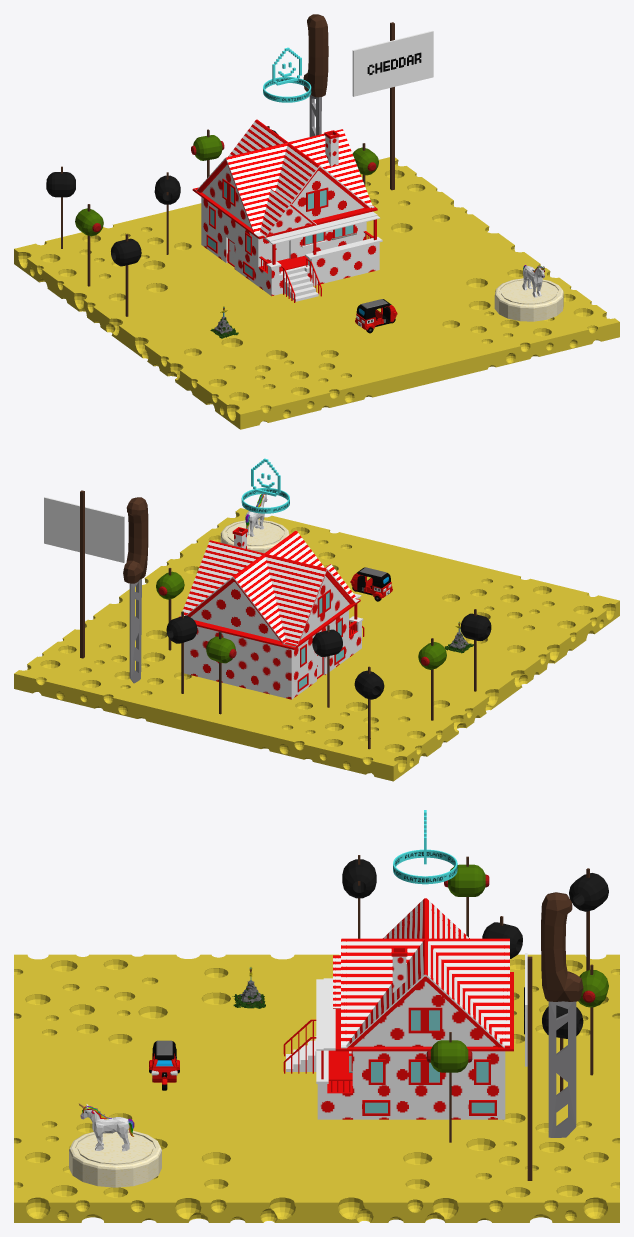
3 views of the same model, one above another, from view 1: azimuth 30°, elevation 25°; view 2: azimuth 150°, elevation 25°; view 3: azimuth 270°, elevation 25° (orthographic). The views are drawn at different scales.
Parts seen in each view (by area): view 1: Cube.022, Cube.196, Cube.023, Cylinder.016, Cube.024, TYPE_PREMIUM, VEHICLES_TUC_TUC, Sphere.017, Sphere.018, Sphere.016, Sphere.020, Sphere.022 (+1 smaller); view 2: Cube.022, Cube.196, Cube.023, Cube.024, Cylinder.016, TYPE_PREMIUM, VEHICLES_TUC_TUC, Sphere.021, Sphere.017, Sphere.020, Sphere.022, Sphere.016 (+3 smaller); view 3: Cube.022, Cube.196, Cube.024, Cylinder.016, Cube.023, Sphere.019, Sphere.016, TYPE_PREMIUM, Sphere.017, Sphere.018, Sphere.022, ANIMAL_UNICORNIO (+4 smaller).
Part boxes in pixels (bbox=[...]): Cube.022: bbox=[14, 157, 619, 429]; Cube.196: bbox=[192, 119, 382, 302]; Cube.023: bbox=[352, 22, 433, 190]; Cylinder.016: bbox=[494, 278, 563, 321]; Cube.024: bbox=[303, 14, 328, 136]; TYPE_PREMIUM: bbox=[263, 47, 311, 102]; VEHICLES_TUC_TUC: bbox=[355, 299, 397, 333]; Sphere.017: bbox=[111, 234, 141, 316]; Sphere.018: bbox=[75, 204, 103, 286]; Sphere.016: bbox=[46, 166, 75, 248]; Sphere.020: bbox=[154, 172, 180, 254]; Sphere.022: bbox=[191, 129, 224, 177]; Cube.022: bbox=[14, 508, 619, 781]; Cube.196: bbox=[179, 527, 364, 699]; Cube.023: bbox=[44, 490, 124, 658]; Cube.024: bbox=[123, 497, 148, 683]; Cylinder.016: bbox=[220, 519, 289, 553]; TYPE_PREMIUM: bbox=[241, 458, 289, 513]; VEHICLES_TUC_TUC: bbox=[350, 567, 392, 601]; Sphere.021: bbox=[166, 611, 197, 693]; Sphere.017: bbox=[460, 609, 491, 691]; Sphere.020: bbox=[312, 625, 342, 707]; Sphere.022: bbox=[205, 631, 236, 714]; Sphere.016: bbox=[354, 666, 384, 749]; Cube.022: bbox=[14, 954, 619, 1222]; Cube.196: bbox=[283, 898, 513, 1119]; Cube.024: bbox=[541, 892, 583, 1137]; Cylinder.016: bbox=[69, 1130, 161, 1187]; Cube.023: bbox=[524, 953, 532, 1180]; Sphere.019: bbox=[426, 1032, 472, 1142]; Sphere.016: bbox=[569, 868, 608, 970]; TYPE_PREMIUM: bbox=[393, 810, 457, 884]; Sphere.017: bbox=[342, 855, 376, 938]; Sphere.018: bbox=[444, 856, 489, 937]; Sphere.022: bbox=[578, 964, 608, 1075]; ANIMAL_UNICORNIO: bbox=[78, 1103, 134, 1151].
Bounding box in the file's own units: 3917 × 2224 × 4000.
Materials: 52 (5 with a texture image).
